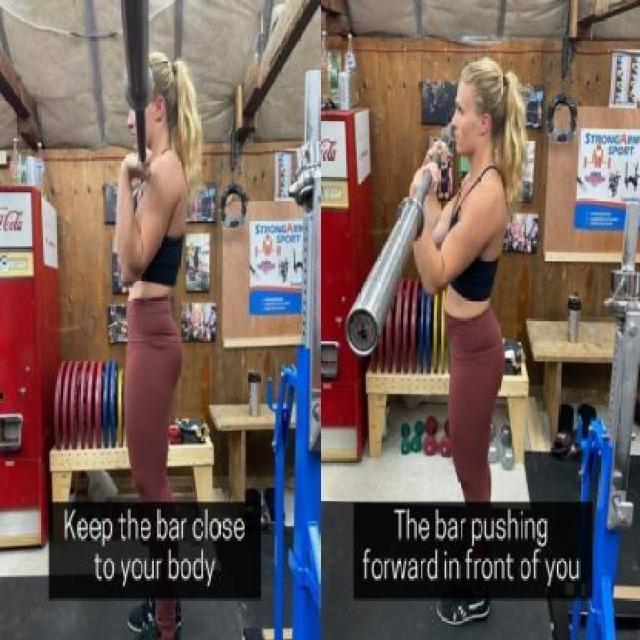barbell: (344, 194, 431, 360)
